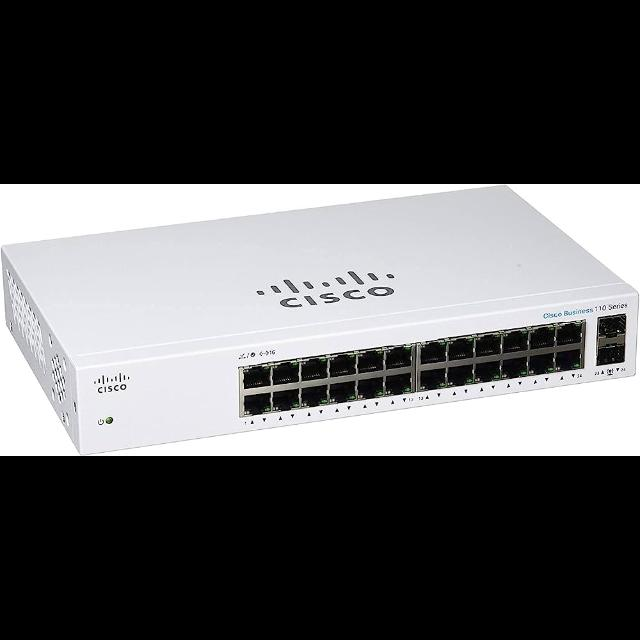Router: (0, 234, 634, 456)
